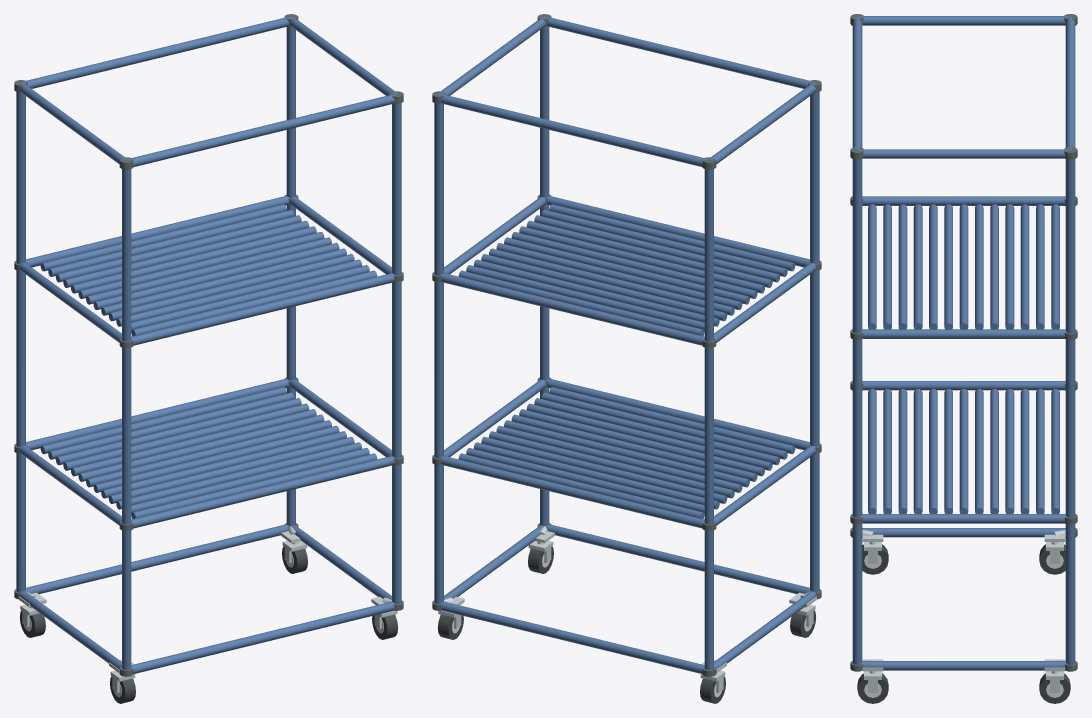
Rendered from creformTallRack.glb.
3 renders of one model, left to right at view 1: azimuth 30°, elevation 25°; view 2: azimuth 150°, elevation 25°; view 3: azimuth 270°, elevation 25°, orthographic.
Visible parts, largest first — view 1: CREFORM-vagn 900 × 600 × H1800; view 2: CREFORM-vagn 900 × 600 × H1800; view 3: CREFORM-vagn 900 × 600 × H1800.
Part boxes in pixels (x1,y1,x2,y2): CREFORM-vagn 900 × 600 × H1800: (14,14,403,703); CREFORM-vagn 900 × 600 × H1800: (432,14,821,703); CREFORM-vagn 900 × 600 × H1800: (850,14,1077,703).
Size of the model in its own units: 0.9679 by 1.8 by 0.67.
